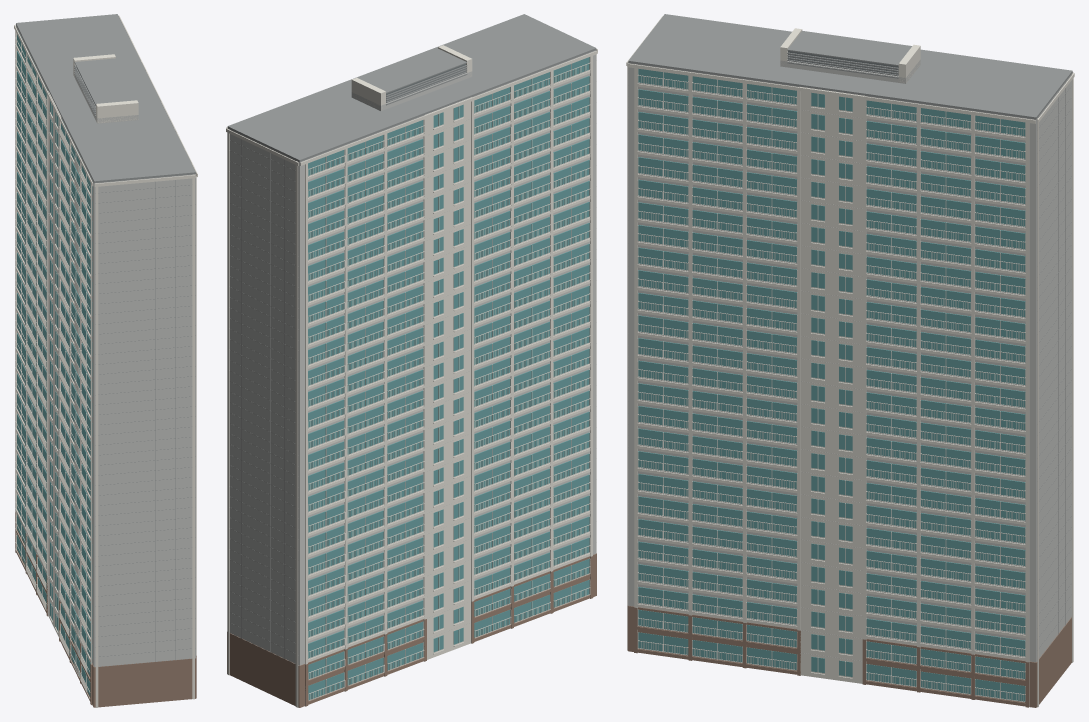
The model's file is bespoke-jamsil-els-107.glb.
The picture shows the model from 3 angles, left to right: view 1: azimuth 30°, elevation 25°; view 2: azimuth 150°, elevation 25°; view 3: azimuth 270°, elevation 25°; orthographic projection. The views are drawn at different scales.
Parts seen in each view (by area): view 1: Els107_editable_Els107_light_grey_solid_wall002, Els107_editable_Els107_turquoise_balcony_glazing002, Els107_editable_Els107_modest_grey_flat_roof_caps002, Els107_white_exact_chunk_2, Els107_white_exact_chunk_0, Els107_white_exact_chunk_1, Els107_editable_Els107_muted_ground_wall002, Els107_white_exact_chunk_5, Els107_white_exact_chunk_4; view 2: Els107_editable_Els107_turquoise_balcony_glazing002, Els107_editable_Els107_light_grey_solid_wall002, Els107_white_exact_chunk_0, Els107_white_exact_chunk_2, Els107_white_exact_chunk_1, Els107_editable_Els107_modest_grey_flat_roof_caps002, Els107_editable_Els107_muted_ground_wall002, Els107_white_exact_chunk_5; view 3: Els107_editable_Els107_turquoise_balcony_glazing002, Els107_editable_Els107_light_grey_solid_wall002, Els107_white_exact_chunk_4, Els107_white_exact_chunk_5, Els107_white_exact_chunk_2, Els107_white_exact_chunk_3, Els107_editable_Els107_modest_grey_flat_roof_caps002, Els107_editable_Els107_muted_ground_wall002, Els107_white_exact_chunk_0, Els107_editable_Els107_narrow_charcoal_service_strips002.
Boxes of the visible parts, x1=… form: Els107_editable_Els107_light_grey_solid_wall002: x1=16, y1=25, x2=195, y2=666; Els107_editable_Els107_turquoise_balcony_glazing002: x1=17, y1=32, x2=92, y2=696; Els107_editable_Els107_modest_grey_flat_roof_caps002: x1=16, y1=14, x2=195, y2=666; Els107_white_exact_chunk_2: x1=14, y1=25, x2=196, y2=707; Els107_white_exact_chunk_0: x1=15, y1=24, x2=61, y2=636; Els107_white_exact_chunk_1: x1=15, y1=27, x2=79, y2=677; Els107_editable_Els107_muted_ground_wall002: x1=15, y1=512, x2=196, y2=707; Els107_white_exact_chunk_5: x1=73, y1=15, x2=197, y2=176; Els107_white_exact_chunk_4: x1=164, y1=107, x2=196, y2=655; Els107_editable_Els107_turquoise_balcony_glazing002: x1=308, y1=57, x2=589, y2=699; Els107_editable_Els107_light_grey_solid_wall002: x1=228, y1=50, x2=596, y2=665; Els107_white_exact_chunk_0: x1=226, y1=97, x2=471, y2=707; Els107_white_exact_chunk_2: x1=300, y1=49, x2=597, y2=628; Els107_white_exact_chunk_1: x1=305, y1=87, x2=550, y2=705; Els107_editable_Els107_modest_grey_flat_roof_caps002: x1=227, y1=14, x2=596, y2=663; Els107_editable_Els107_muted_ground_wall002: x1=227, y1=553, x2=596, y2=707; Els107_white_exact_chunk_5: x1=226, y1=45, x2=472, y2=128; Els107_editable_Els107_turquoise_balcony_glazing002: x1=638, y1=68, x2=1025, y2=701; Els107_editable_Els107_light_grey_solid_wall002: x1=628, y1=59, x2=1072, y2=662; Els107_white_exact_chunk_4: x1=634, y1=64, x2=971, y2=694; Els107_white_exact_chunk_5: x1=627, y1=28, x2=1035, y2=707; Els107_white_exact_chunk_2: x1=626, y1=16, x2=1073, y2=683; Els107_white_exact_chunk_3: x1=637, y1=69, x2=797, y2=670; Els107_editable_Els107_modest_grey_flat_roof_caps002: x1=628, y1=14, x2=1072, y2=658; Els107_editable_Els107_muted_ground_wall002: x1=627, y1=605, x2=1071, y2=707; Els107_white_exact_chunk_0: x1=1037, y1=73, x2=1074, y2=707; Els107_editable_Els107_narrow_charcoal_service_strips002: x1=788, y1=51, x2=898, y2=74.
Bounding box in the file's own units: 26.34 × 71.15 × 47.44.
